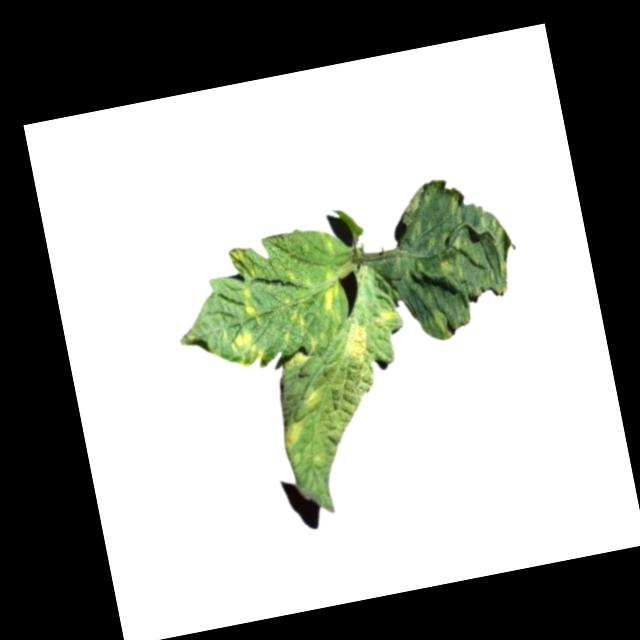Leaf_Mold: (155, 222, 360, 381), (378, 168, 529, 348), (345, 320, 371, 362), (372, 307, 402, 332), (281, 419, 305, 446), (299, 385, 321, 412)
